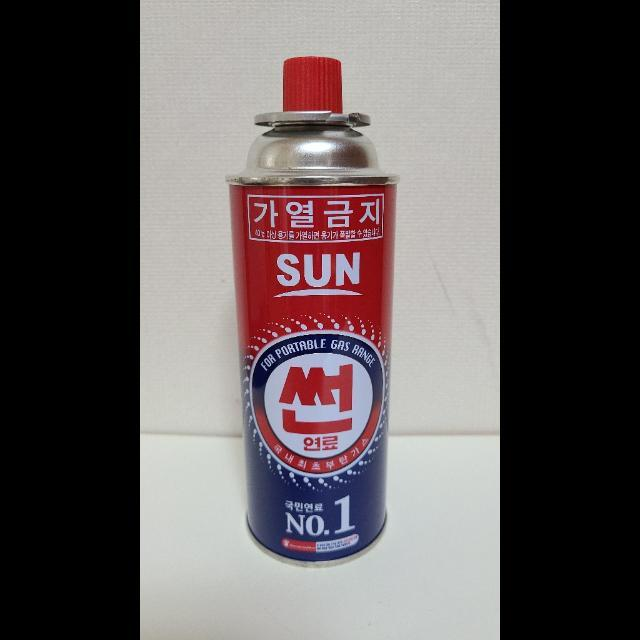chemical_spray_can: (210, 47, 436, 591)
